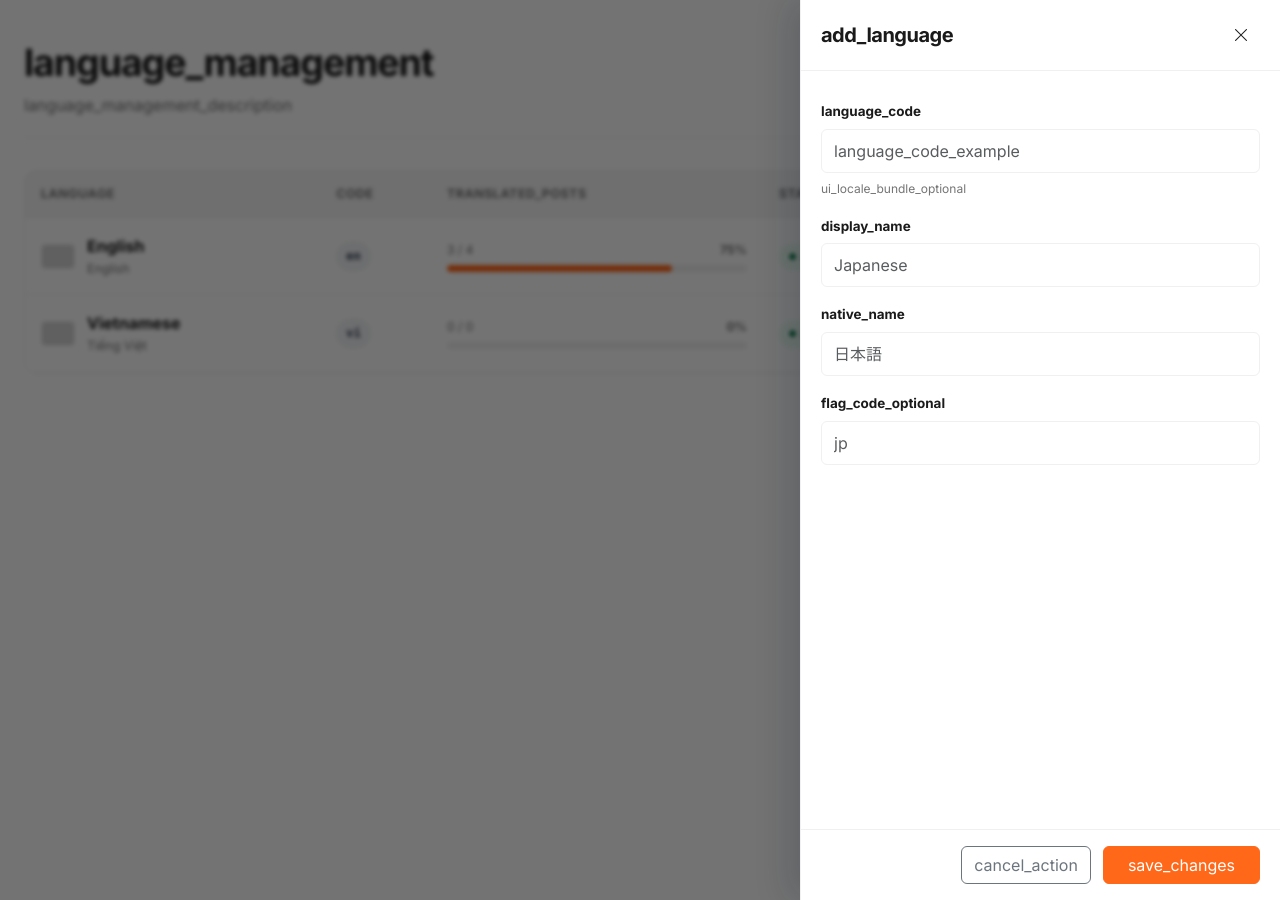
it: AdminLanguagesComponent › slides the side panel in and closes it from its close button
The image size is (1280, 900).
Expected: the dialog with class "side-panel-modal" is shown, [800, 0, 1279, 899]
What coordinates should you click on to do the following:
click the button with class "dialog-close"
I would click on:
 (1241, 35)
Its box is [1222, 16, 1260, 54].
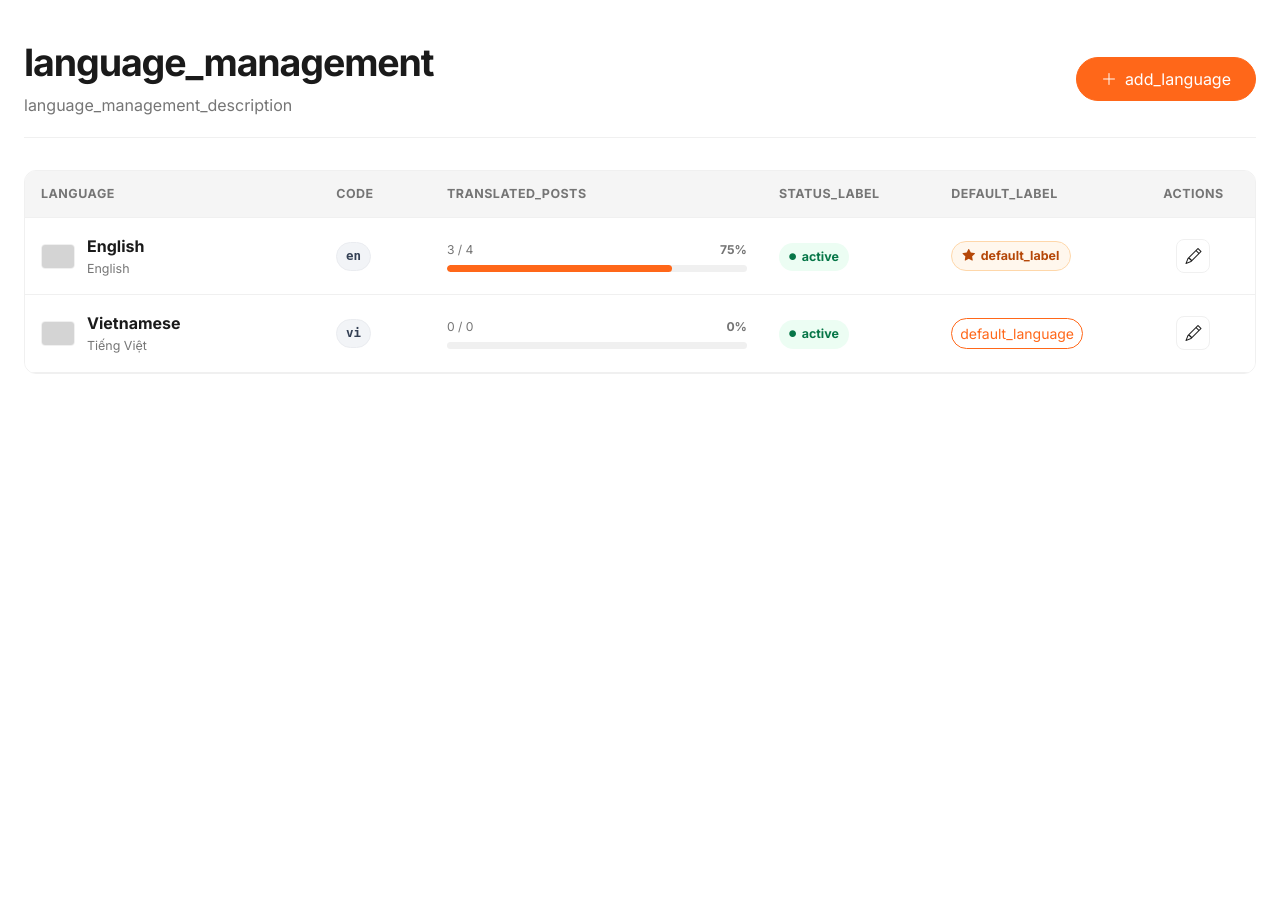
Result: the dialog with class "side-panel-modal" is gone
